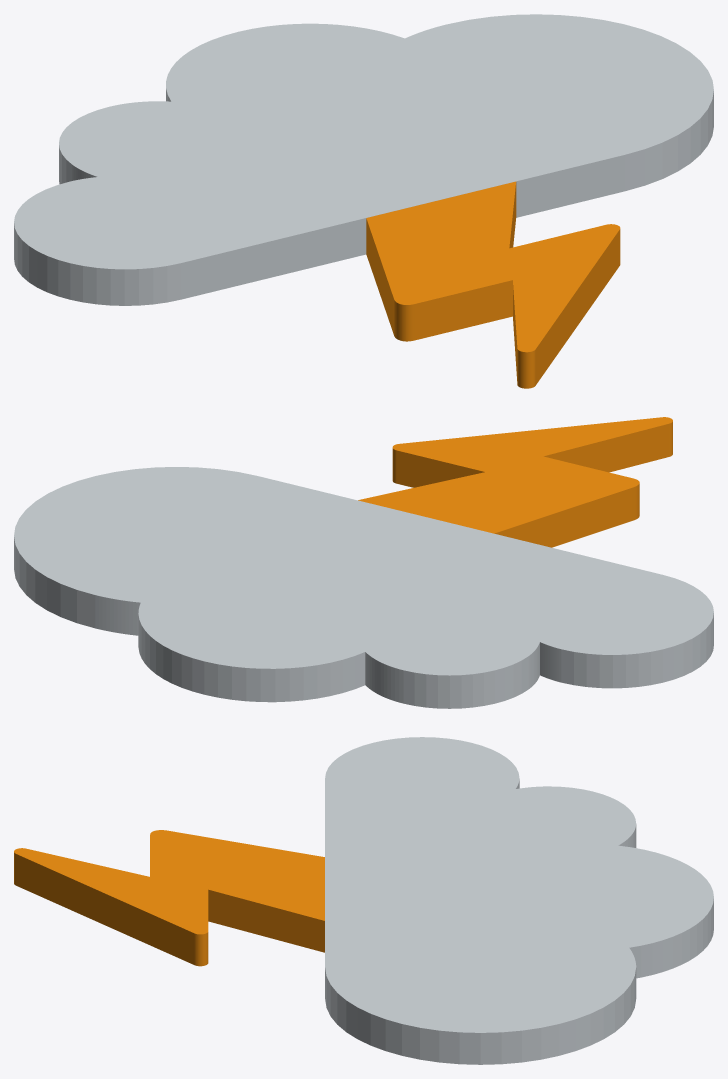
Rendered from lightning.gltf.
3 views of the same model, one above another, from view 1: azimuth 30°, elevation 25°; view 2: azimuth 150°, elevation 25°; view 3: azimuth 270°, elevation 25° (orthographic). The views are drawn at different scales.
Parts seen in each view (by area): view 1: Curve.001, Curve; view 2: Curve.001, Curve; view 3: Curve.001, Curve.
Boxes of the visible parts, x1,y1,x2,y2 form: Curve.001: (14, 14, 713, 305); Curve: (366, 181, 620, 388); Curve.001: (14, 467, 713, 708); Curve: (358, 417, 672, 547); Curve.001: (325, 737, 713, 1064); Curve: (14, 830, 324, 966).
Size of the model in its own units: 1.99 by 0.1 by 1.99.
